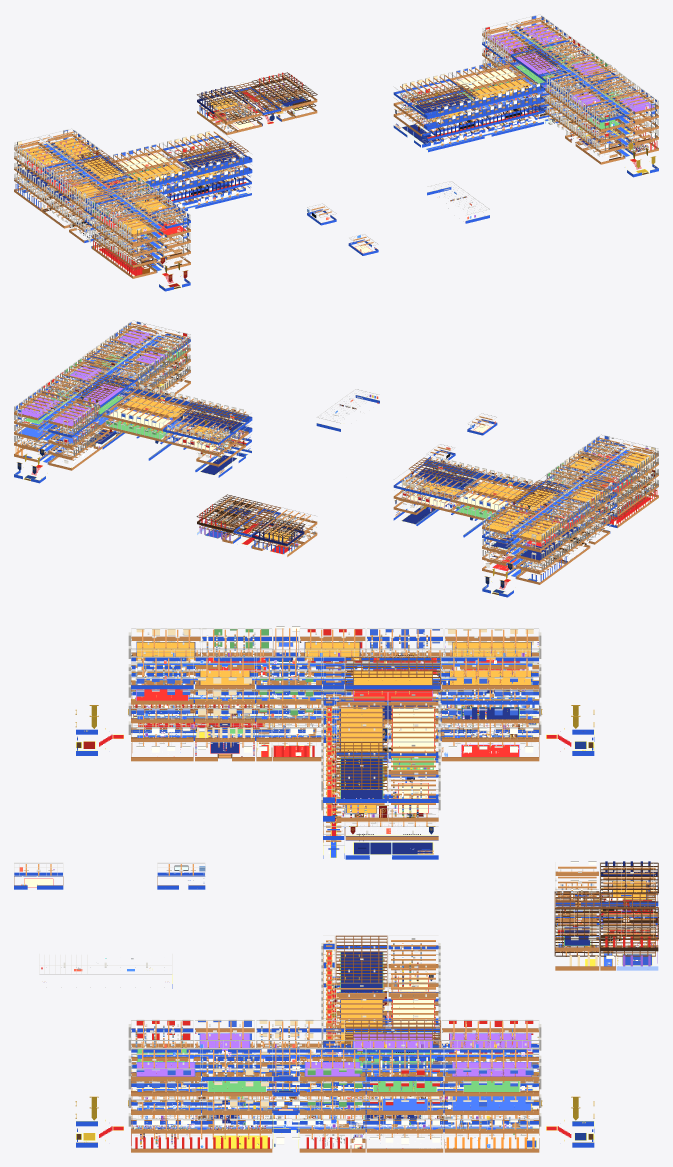
File: SM_Academy_Interior_NoCol.fbx
3 renders of one model, top to bottom at view 1: azimuth 30°, elevation 25°; view 2: azimuth 150°, elevation 25°; view 3: azimuth 270°, elevation 25°, orthographic. The views are drawn at different scales.
Parts seen in each view (by area): view 1: SM_Academy_Interior_NoCol; view 2: SM_Academy_Interior_NoCol; view 3: SM_Academy_Interior_NoCol.
Boxes of the visible parts, <box> form: SM_Academy_Interior_NoCol: <box>14,14,658,291</box>; SM_Academy_Interior_NoCol: <box>14,320,658,597</box>; SM_Academy_Interior_NoCol: <box>14,626,658,1152</box>.
Size of the model in its own units: 228 by 22.82 by 141.
